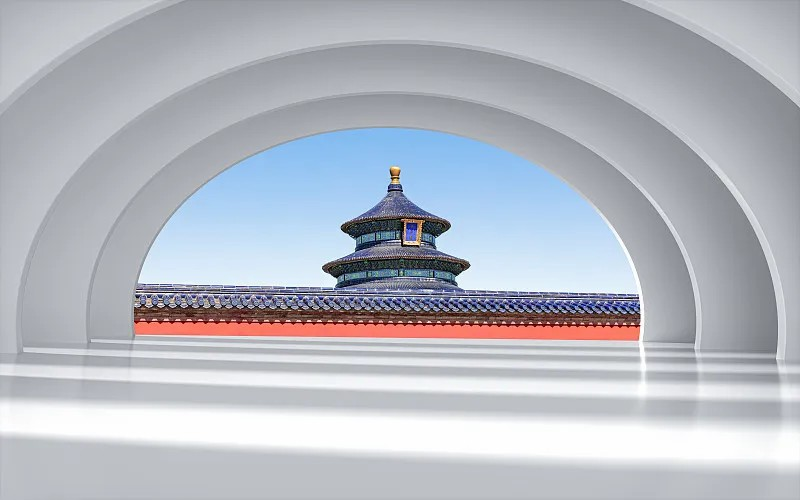Heaven: (322, 166, 471, 292)
